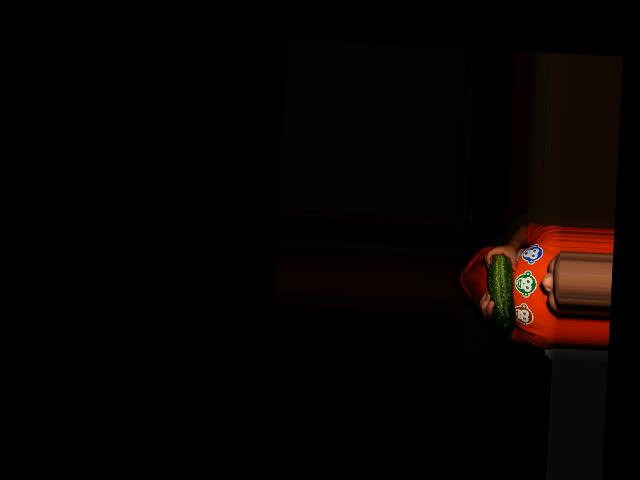cucumber: (484, 253, 518, 334)
